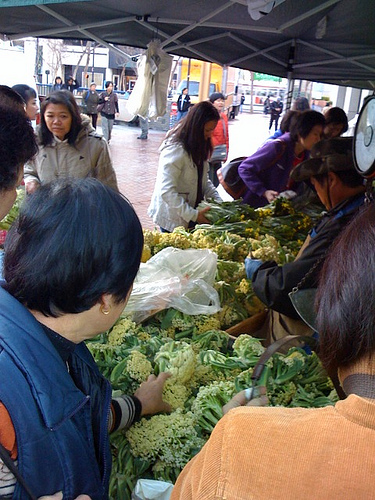cauliflower: (153, 337, 197, 381), (125, 346, 152, 382)
